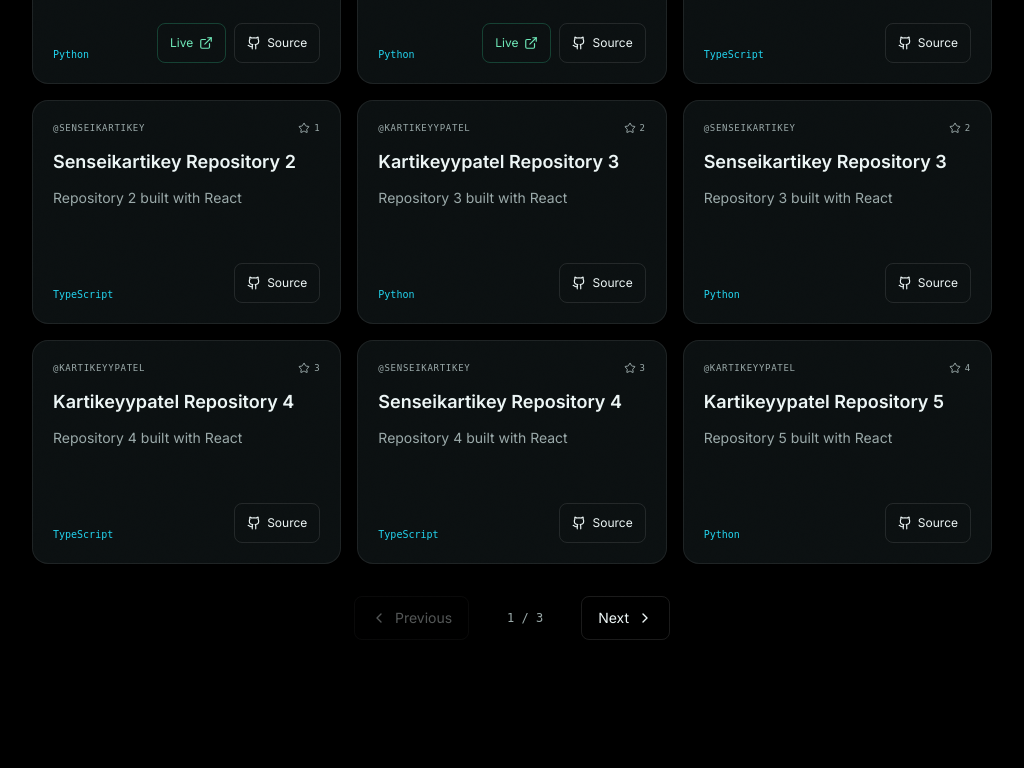
it: ProjectsSection › separates featured work and paginates the live GitHub feed without an account filter
This screenshot has width=1024, height=768.
(page scrolled)
Check: the text "1 / 3" is shown, box 507,611 -> 543,625
Click the button "Next".
click(626, 618)  # box 581,596 -> 670,640
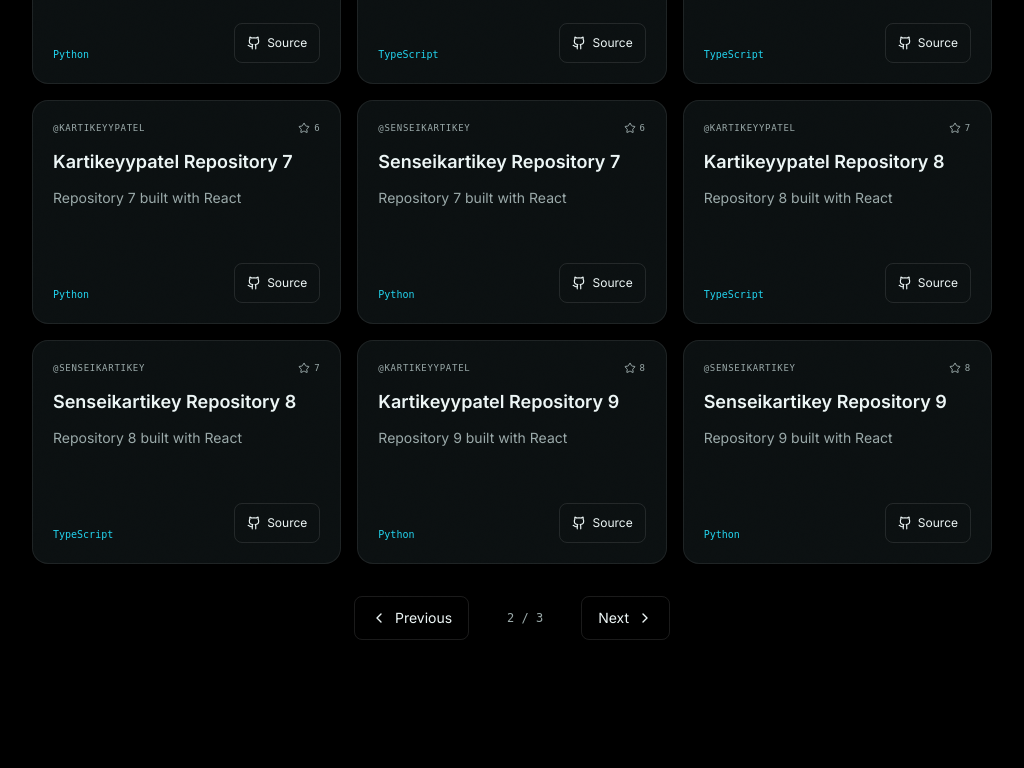
Check: the text "2 / 3" is shown, box 507,611 -> 543,625
